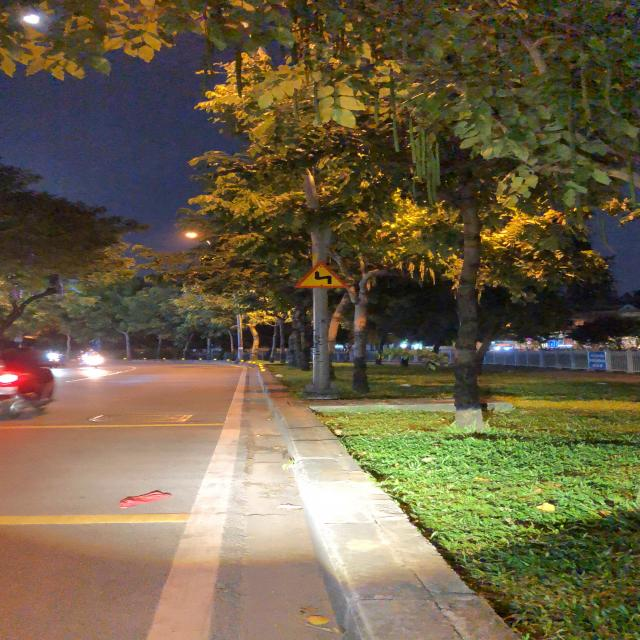Bien bao nhieu cho ngoat nguy hiem lien tiep: (290, 261, 355, 288)
